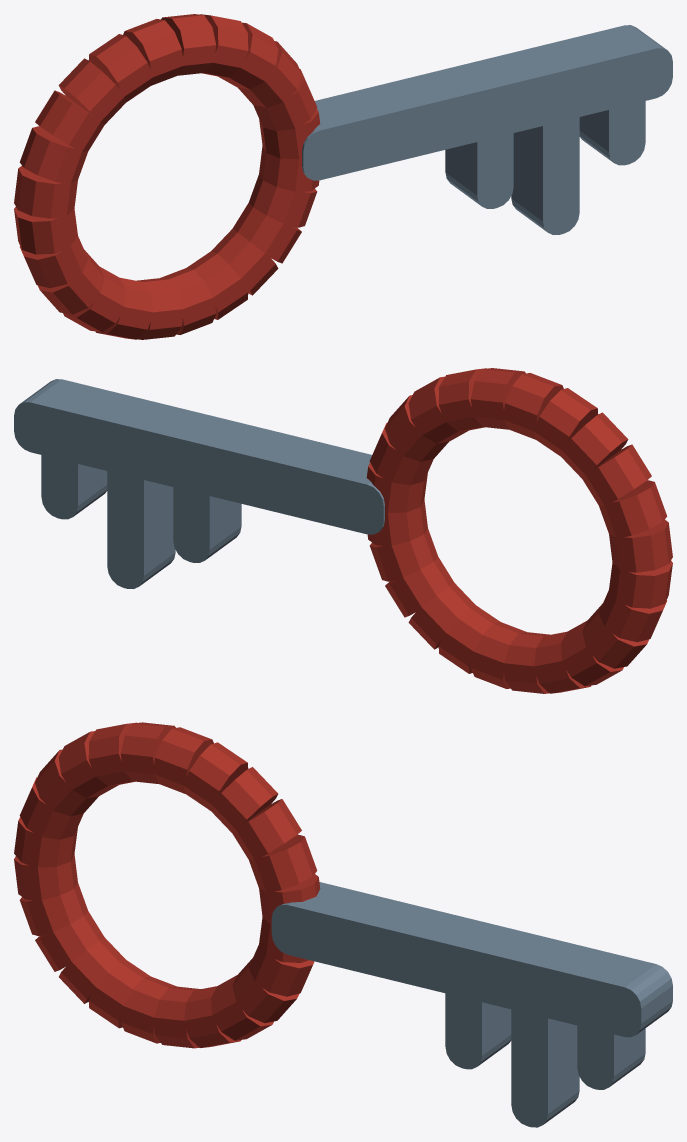
File: key.glb
The picture shows the model from 3 angles, top to bottom: view 1: azimuth 30°, elevation 25°; view 2: azimuth 150°, elevation 25°; view 3: azimuth 330°, elevation 25°; orthographic projection.
Visible parts, largest first — view 1: shaft, tooth 1, tooth 0, tooth 2, key ring10, key ring7, key ring8, key ring9, key ring11, key ring6, key ring12, key ring5 (+16 smaller); view 2: shaft, tooth 1, tooth 0, tooth 2, key ring10, key ring7, key ring8, key ring9, key ring11, key ring6, key ring12, key ring5 (+16 smaller); view 3: shaft, tooth 1, tooth 0, tooth 2, key ring1, key ring4, key ring3, key ring2, key ring5, key ring6, key ring14, key ring15 (+16 smaller).
Boxes of the visible parts, left/top/right/bottom form: shaft: left=302, top=25, right=672, bottom=180; tooth 1: left=511, top=103, right=579, bottom=234; tooth 0: left=445, top=119, right=513, bottom=208; tooth 2: left=579, top=87, right=645, bottom=165; key ring10: left=19, top=126, right=88, bottom=184; key ring7: left=88, top=34, right=153, bottom=102; key ring8: left=58, top=58, right=125, bottom=124; key ring9: left=35, top=90, right=104, bottom=151; key ring11: left=14, top=166, right=77, bottom=218; key ring6: left=123, top=19, right=183, bottom=85; key ring12: left=14, top=207, right=77, bottom=254; key ring5: left=161, top=14, right=216, bottom=75; shaft: left=14, top=379, right=384, bottom=534; tooth 1: left=107, top=457, right=175, bottom=588; tooth 0: left=173, top=473, right=241, bottom=562; tooth 2: left=41, top=442, right=107, bottom=519; key ring10: left=598, top=480, right=667, bottom=538; key ring7: left=533, top=388, right=598, bottom=456; key ring8: left=561, top=412, right=628, bottom=478; key ring9: left=582, top=444, right=651, bottom=505; key ring11: left=609, top=520, right=672, bottom=572; key ring6: left=503, top=373, right=563, bottom=439; key ring12: left=609, top=561, right=672, bottom=608; key ring5: left=470, top=368, right=525, bottom=429; shaft: left=271, top=882, right=672, bottom=1037; tooth 1: left=511, top=996, right=579, bottom=1127; tooth 0: left=445, top=981, right=511, bottom=1069; tooth 2: left=577, top=1012, right=645, bottom=1089; key ring1: left=249, top=834, right=317, bottom=891; key ring4: left=183, top=742, right=248, bottom=810; key ring3: left=211, top=767, right=278, bottom=833; key ring2: left=232, top=799, right=301, bottom=859; key ring5: left=154, top=727, right=213, bottom=793; key ring6: left=120, top=722, right=175, bottom=784; key ring14: left=35, top=911, right=104, bottom=971; key ring15: left=59, top=937, right=125, bottom=1003.
Bounding box in the file's own units: 1.75 × 0.8228 × 0.15.
